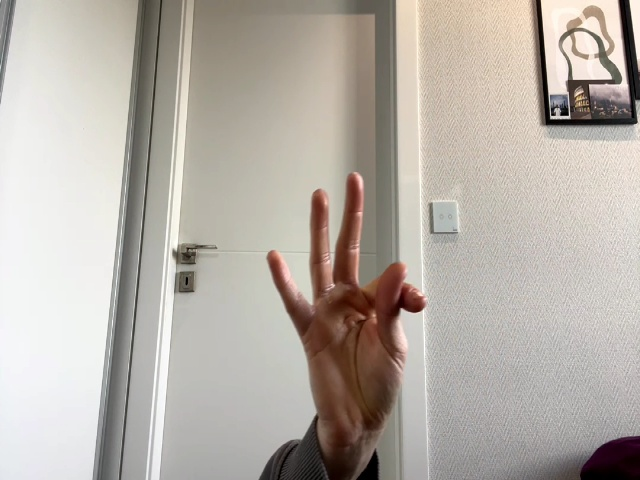T: (267, 173, 428, 417)
